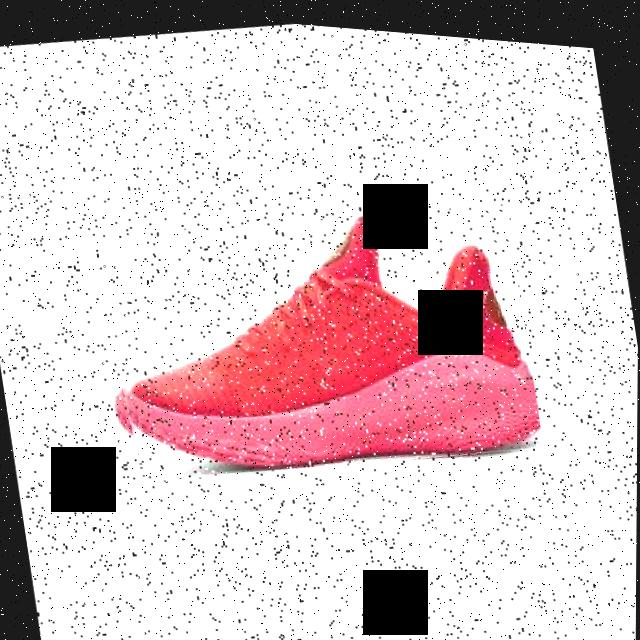shoe: (89, 169, 546, 508)
